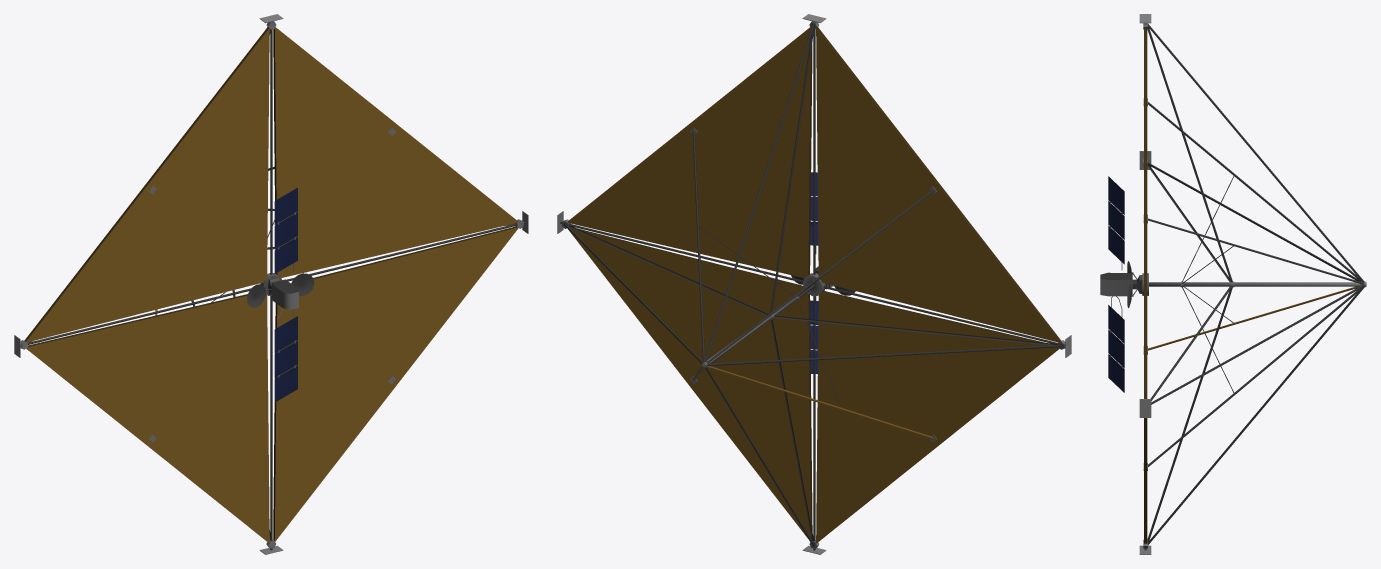
3 views of the same model, side by side, from view 1: azimuth 30°, elevation 25°; view 2: azimuth 150°, elevation 25°; view 3: azimuth 270°, elevation 25° (orthographic).
Visible parts, largest first — view 1: SquareSolarSail; view 2: SquareSolarSail; view 3: SquareSolarSail.
Boxes of the visible parts, box(x1,y1,x2,y2) form: SquareSolarSail: box(14, 14, 528, 554); SquareSolarSail: box(557, 14, 1071, 554); SquareSolarSail: box(1100, 14, 1366, 554).
Bounding box in the file's own units: 0.5 × 0.5 × 0.2266.
